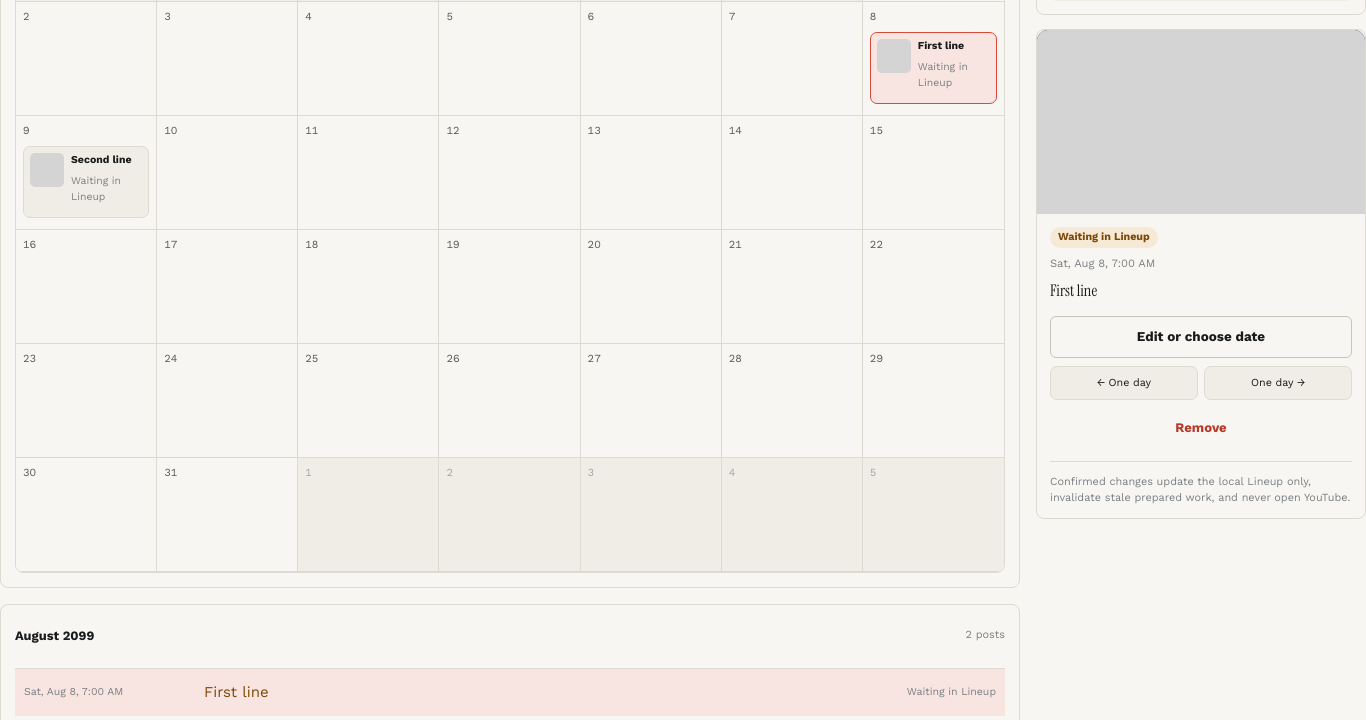
Test case: LineupCalendar › uses the configured timezone for same-day validation
(page scrolled)
Click the button "Edit or choose date". click: [1201, 337]
box: [1050,316,1352,358]
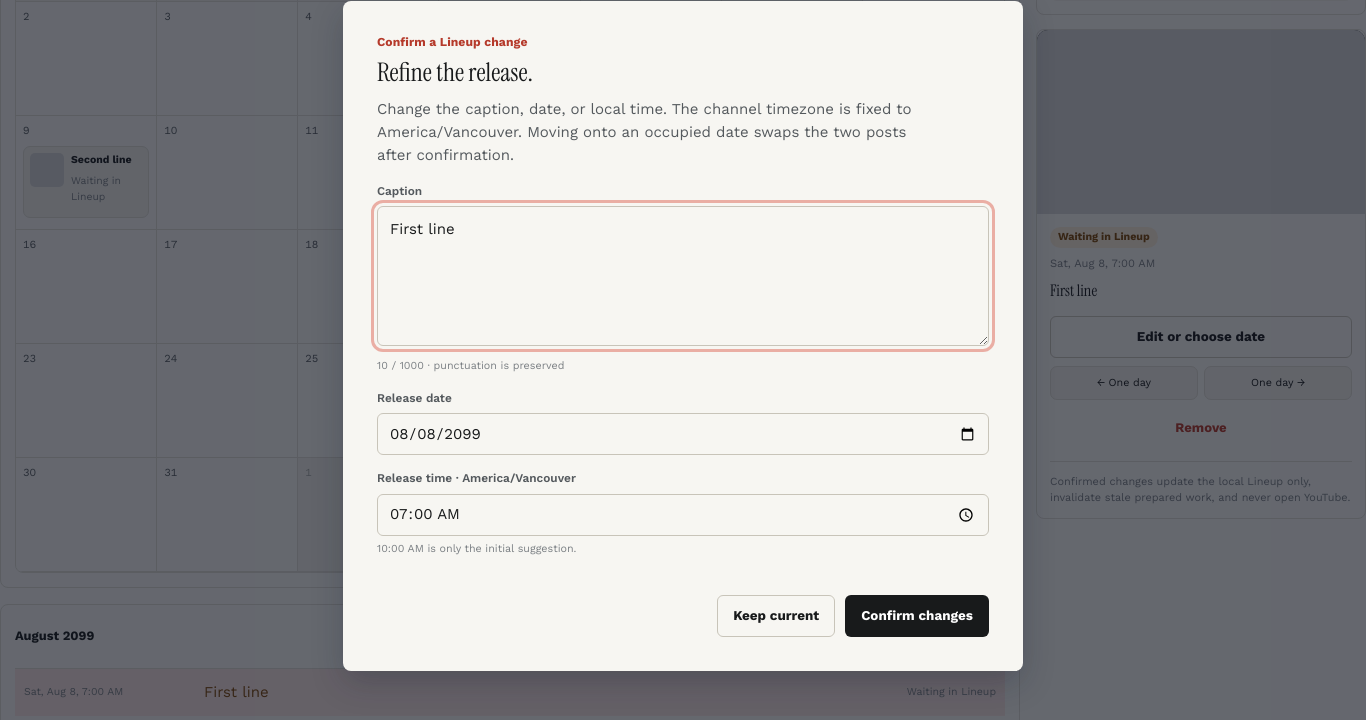
Type "2026-07-18" into the date field labelled "Release date". click: [683, 434]
box: [377,413,989,455]
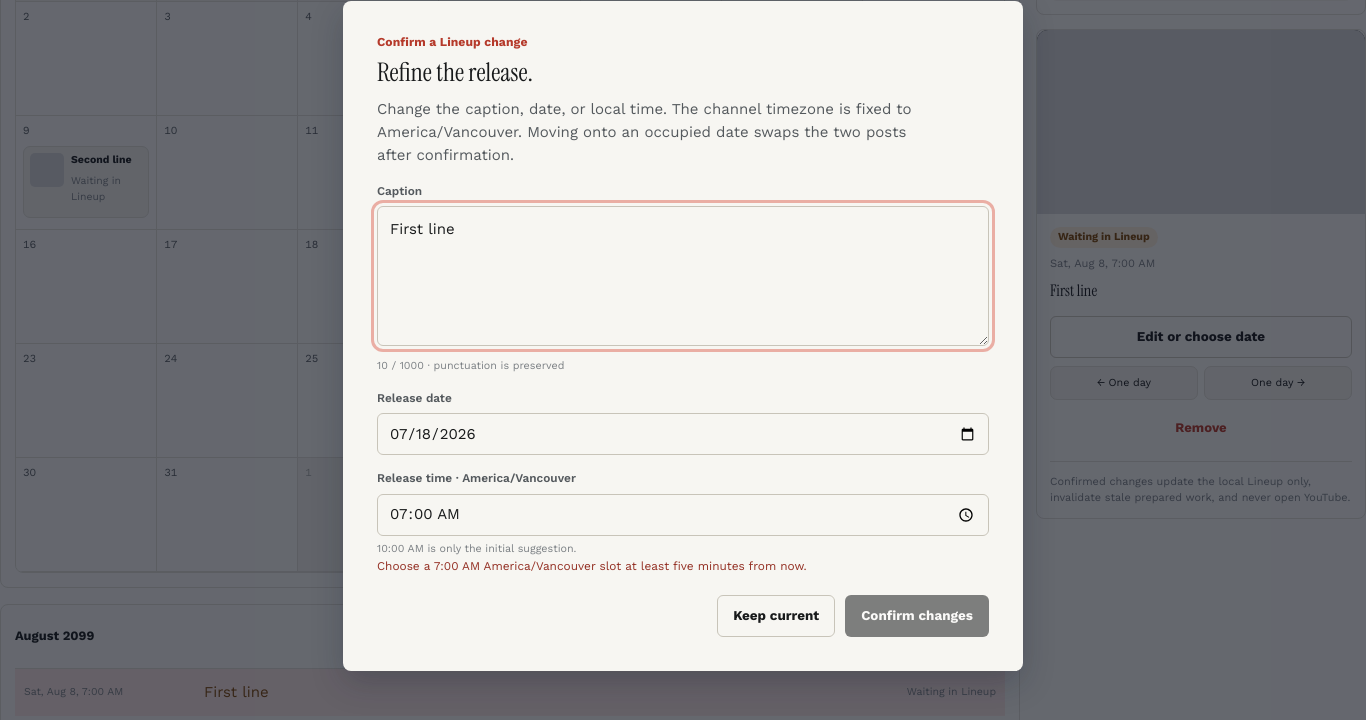
Replace the text in the time field labelled "Release time" with "10:00". click: [683, 515]
box: [377,494,989,536]
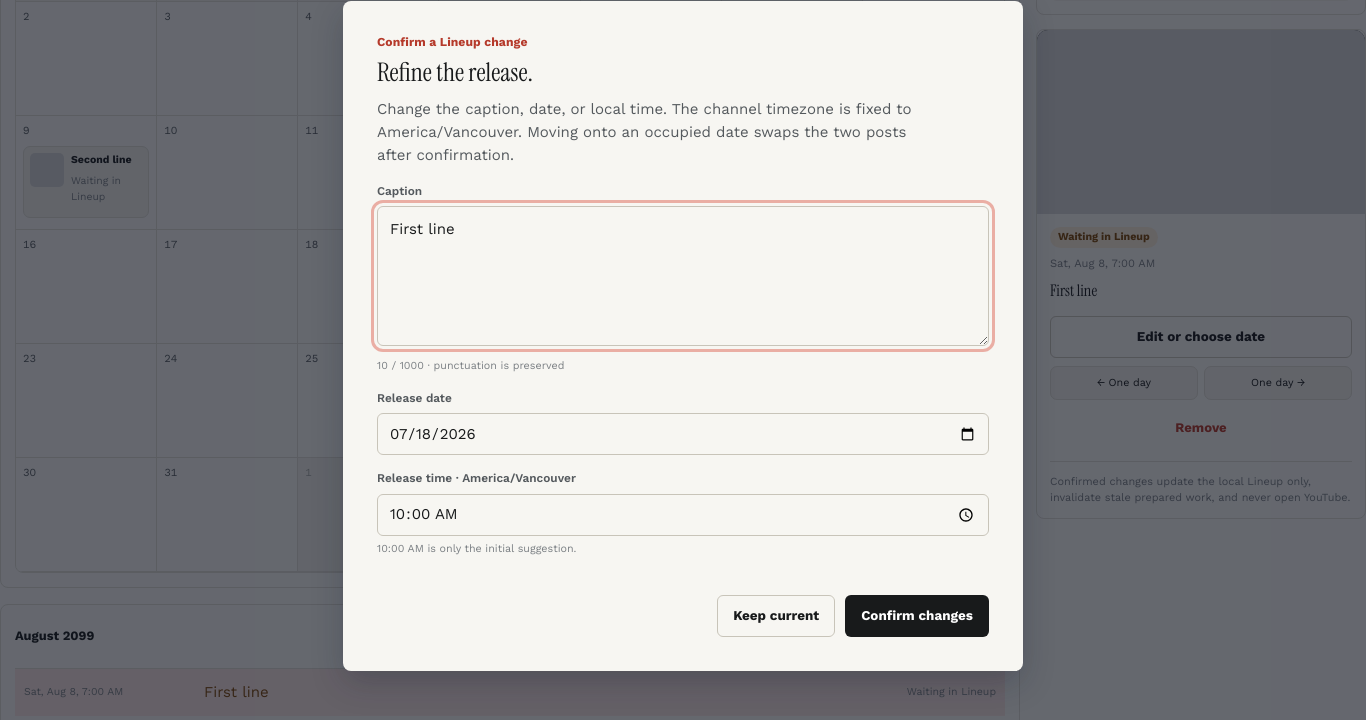
Expected: the button "Confirm changes" is enabled, [845,595,989,637]
